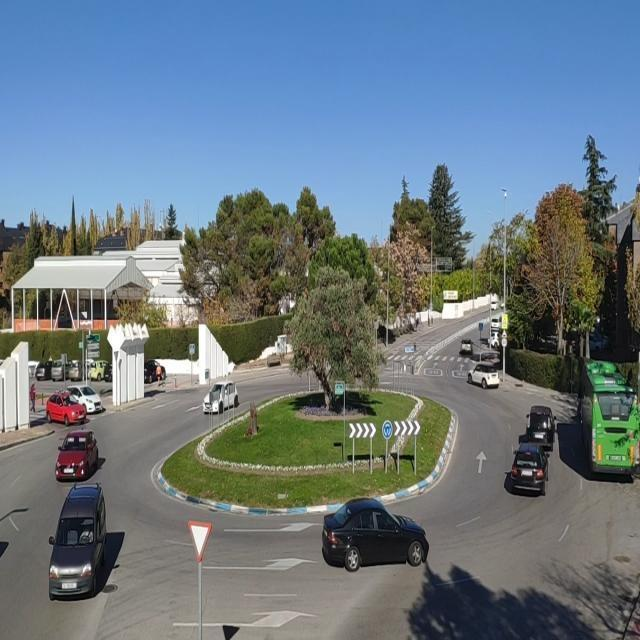Bus: (577, 358, 640, 479)
Car: (320, 498, 430, 572), (48, 482, 106, 600), (509, 443, 550, 497), (56, 430, 99, 480), (46, 390, 86, 426), (525, 406, 557, 450), (203, 382, 240, 414), (66, 386, 102, 414), (466, 363, 499, 390), (143, 360, 167, 383), (51, 359, 74, 382), (87, 360, 110, 381), (35, 360, 52, 381), (69, 359, 84, 382), (487, 332, 502, 348), (461, 339, 474, 354), (491, 315, 502, 331)
